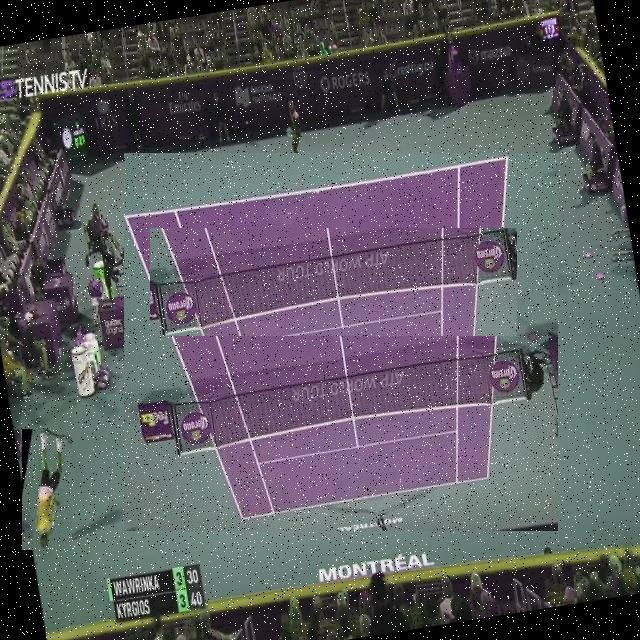court: (124, 153, 558, 531)
net: (150, 228, 517, 336)
player: (22, 429, 72, 550)
